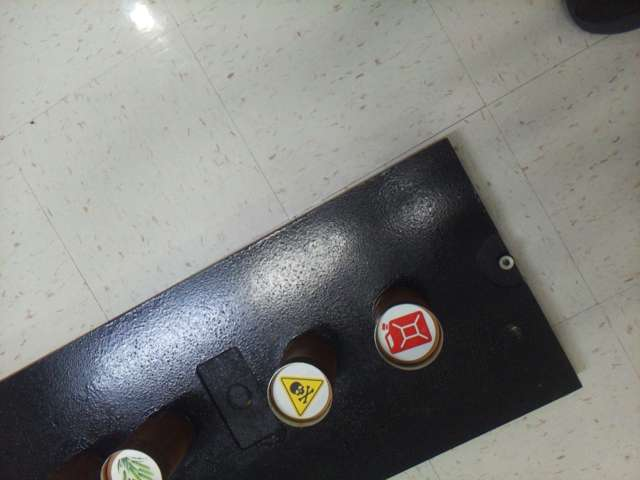gasoline: (379, 305, 436, 361)
toxic_fluid: (272, 363, 328, 420)
wheat_barrel: (112, 449, 161, 479)
